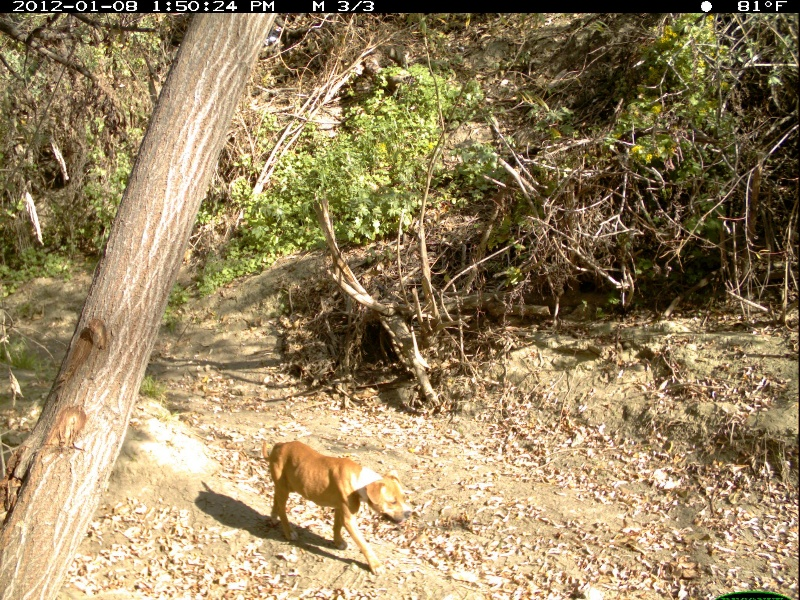dog: (261, 433, 407, 571)
